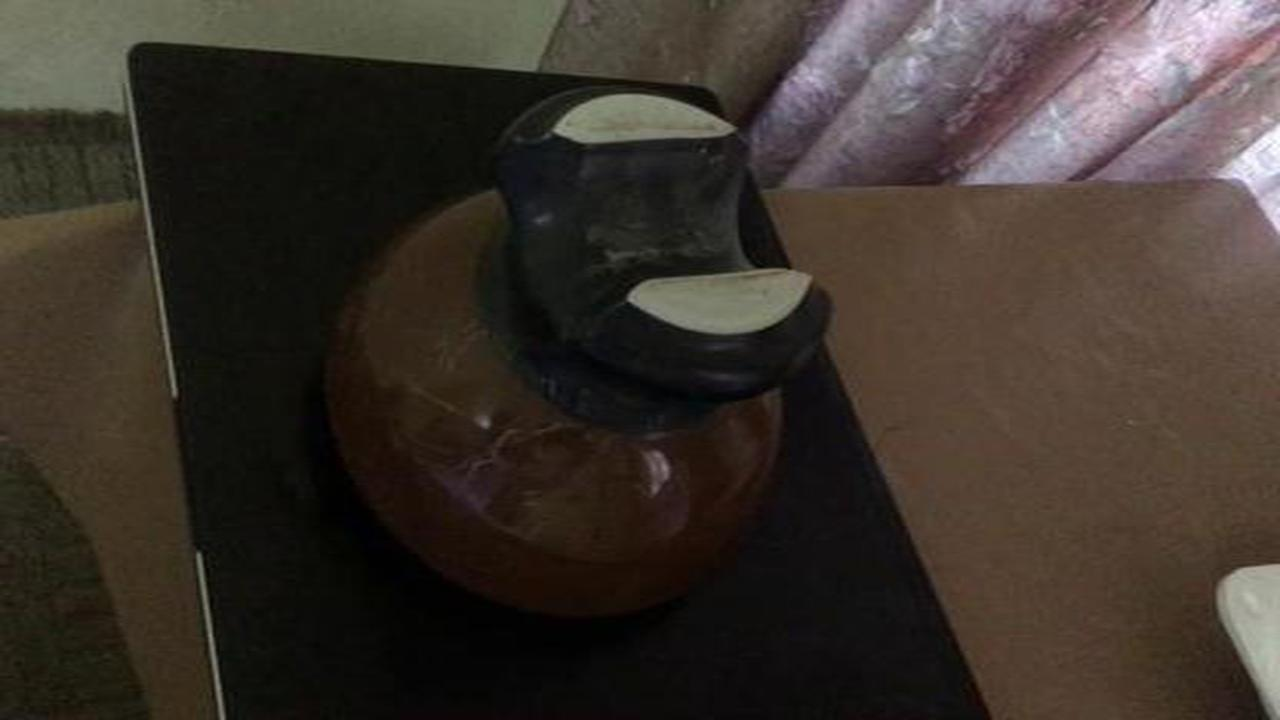insulator_pin: (311, 66, 853, 650)
